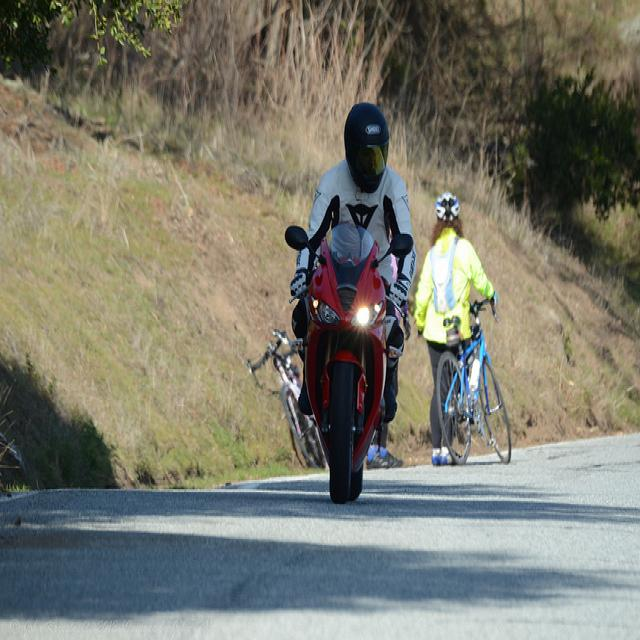motor: (287, 223, 413, 501)
